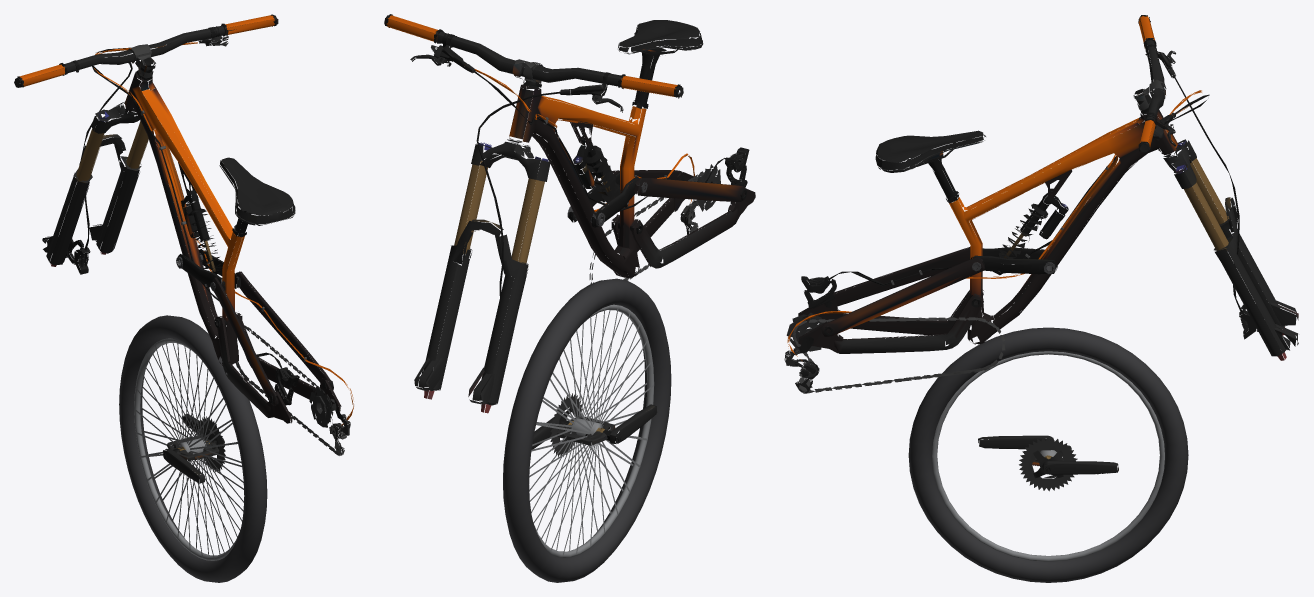
File: bike-npc.glb
The picture shows the model from 3 angles, left to right: view 1: azimuth 30°, elevation 25°; view 2: azimuth 150°, elevation 25°; view 3: azimuth 270°, elevation 25°; orthographic projection. The views are drawn at different scales.
Visible parts, largest first — view 1: frame, wheel_front, crank; view 2: frame, wheel_front, crank; view 3: frame, wheel_front, crank.
Boxes of the visible parts, x1=… form: frame: x1=14, y1=14, x2=353, y2=455; wheel_front: x1=119, y1=315, x2=267, y2=582; crank: x1=163, y1=413, x2=225, y2=483; frame: x1=384, y1=14, x2=755, y2=413; wheel_front: x1=503, y1=278, x2=671, y2=582; crank: x1=531, y1=393, x2=657, y2=457; frame: x1=784, y1=15, x2=1298, y2=393; wheel_front: x1=908, y1=327, x2=1188, y2=582; crank: x1=978, y1=435, x2=1118, y2=491.
Size of the model in its own units: 0.763 by 1.38 by 1.28.
